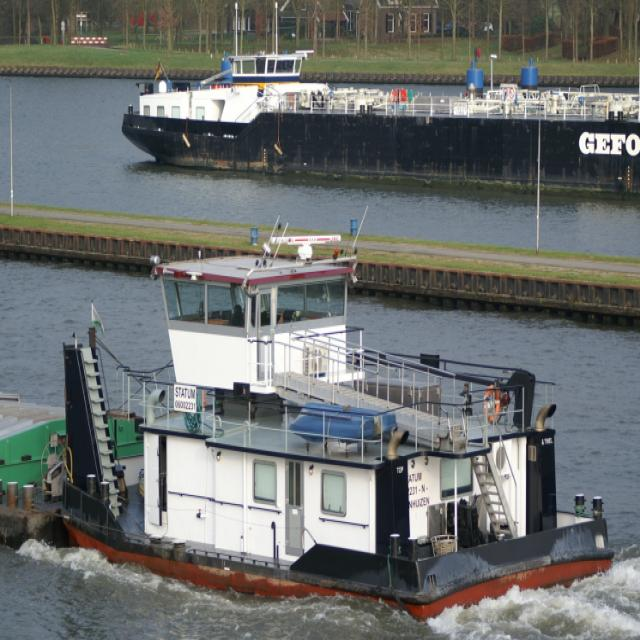tugboat: (53, 203, 622, 639)
